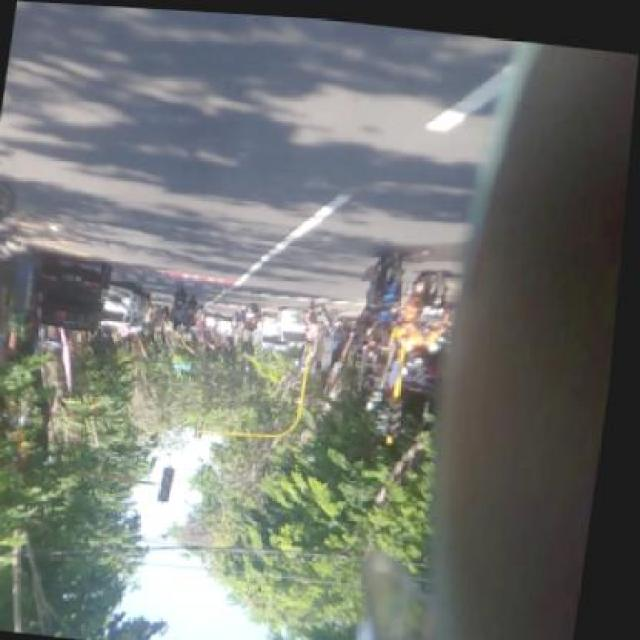yellow_light: (164, 462, 184, 502), (392, 392, 410, 432)
